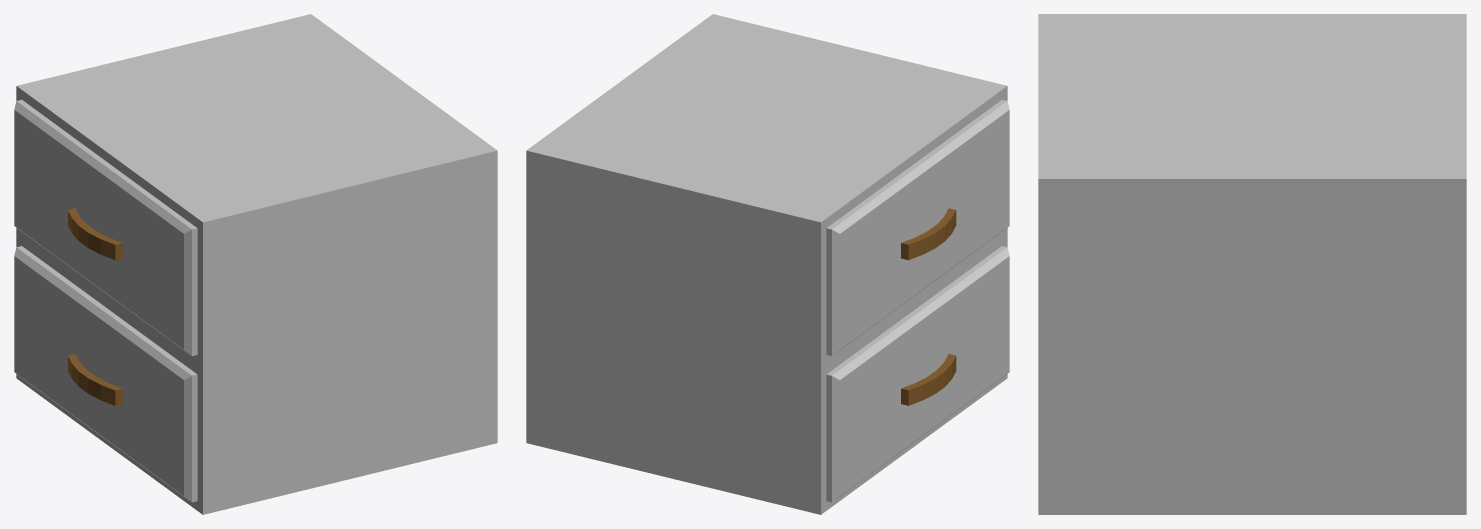
The model's file is Wardrobe_7.fbx.
3 renders of one model, left to right at view 1: azimuth 30°, elevation 25°; view 2: azimuth 150°, elevation 25°; view 3: azimuth 270°, elevation 25°, orthographic. The views are drawn at different scales.
Parts seen in each view (by area): view 1: Wardrobe_7, Wardrobe_7 Door_1, Wardrobe_7 Door_2; view 2: Wardrobe_7, Wardrobe_7 Door_1, Wardrobe_7 Door_2; view 3: Wardrobe_7.
Part boxes in pixels (left/top/right/bottom): Wardrobe_7: left=16, top=14, right=497, bottom=514; Wardrobe_7 Door_1: left=14, top=99, right=197, bottom=356; Wardrobe_7 Door_2: left=14, top=246, right=197, bottom=502; Wardrobe_7: left=526, top=14, right=1007, bottom=514; Wardrobe_7 Door_1: left=826, top=99, right=1009, bottom=356; Wardrobe_7 Door_2: left=826, top=246, right=1009, bottom=502; Wardrobe_7: left=1038, top=14, right=1466, bottom=514.
Bounding box in the file's own units: 0.4491 × 0.3915 × 0.4526.
